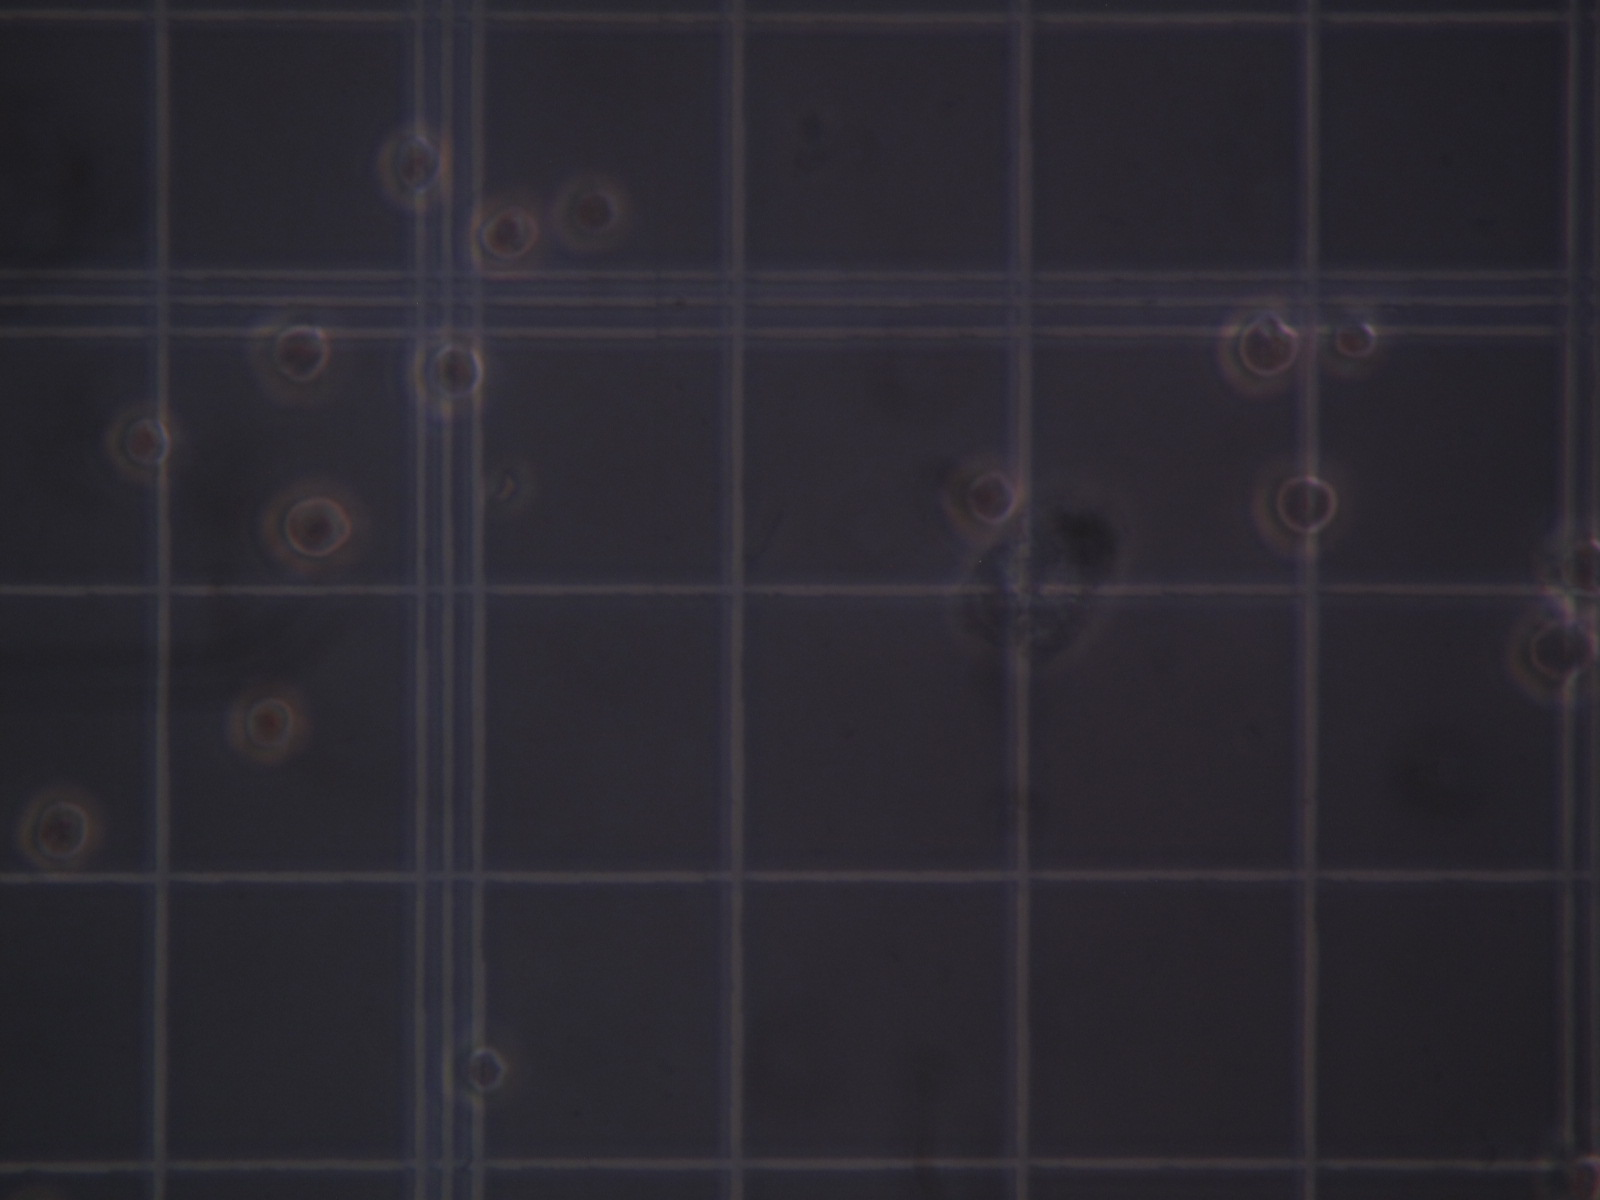hemo: (1251, 454, 1351, 558), (260, 476, 365, 572), (1506, 609, 1599, 705), (247, 316, 338, 407), (1217, 303, 1303, 395), (15, 787, 101, 874), (942, 454, 1024, 542), (467, 194, 548, 280), (226, 679, 307, 763), (375, 124, 450, 211), (1534, 522, 1600, 618), (408, 337, 486, 416), (103, 401, 176, 484), (553, 178, 627, 253), (447, 1034, 511, 1109), (1317, 310, 1383, 379)
